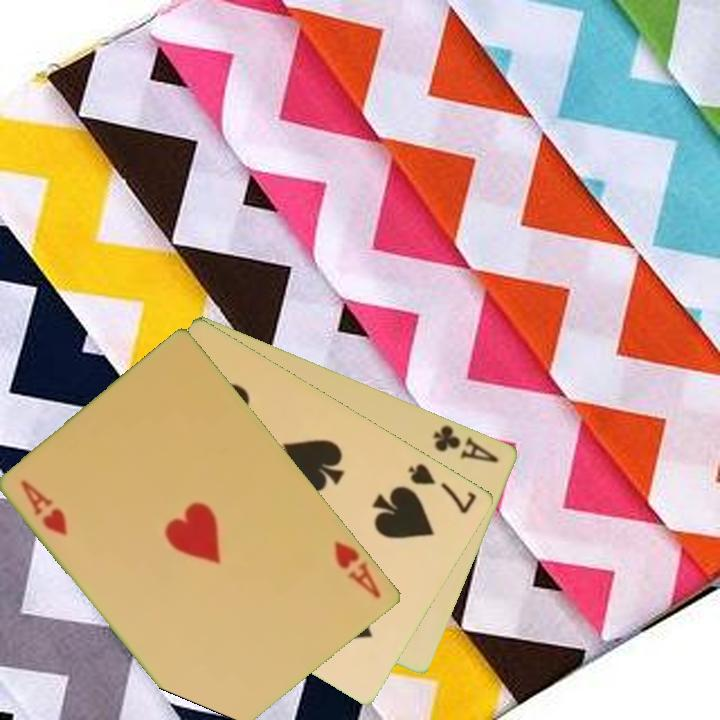7s: (405, 459, 481, 517)
Ac: (430, 421, 502, 466)
Ah: (17, 476, 72, 539), (331, 537, 385, 601)
